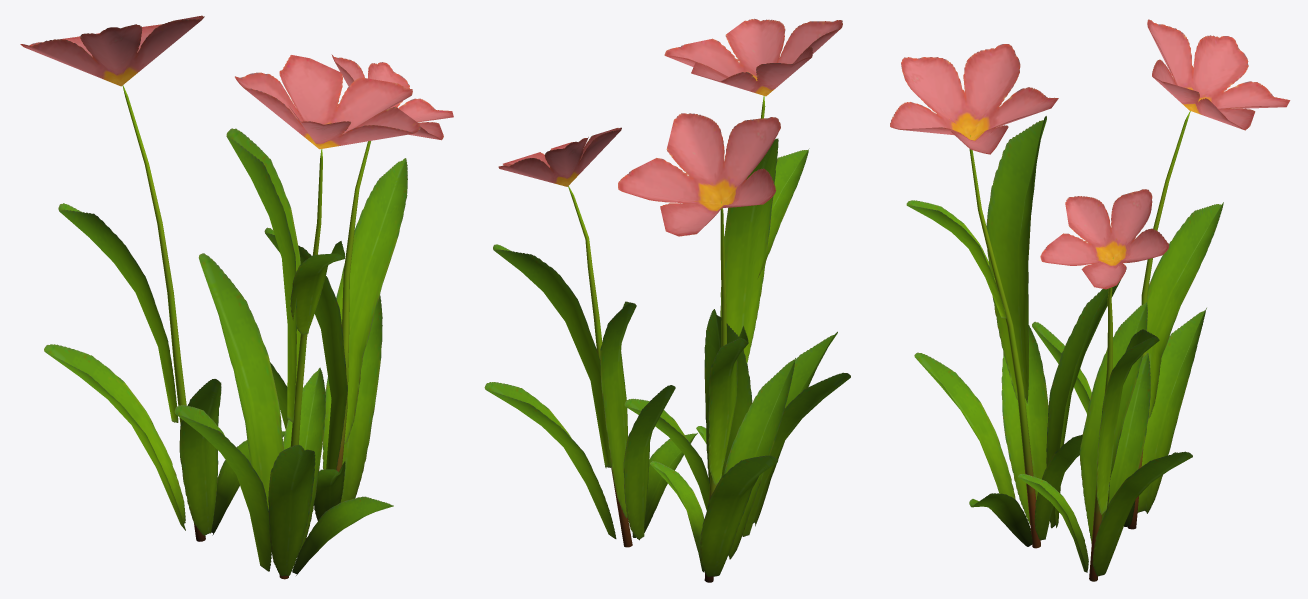
The model's file is Flower_3_Group.glb.
3 renders of one model, left to right at view 1: azimuth 30°, elevation 25°; view 2: azimuth 150°, elevation 25°; view 3: azimuth 270°, elevation 25°, orthographic. The views are drawn at different scales.
Visible parts, largest first — view 1: Flower_3_Group; view 2: Flower_3_Group; view 3: Flower_3_Group.
Part boxes in pixels (x1,y1,x2,y2): Flower_3_Group: (20,15,453,579); Flower_3_Group: (484,18,850,582); Flower_3_Group: (890,19,1290,581).
Bounding box in the file's own units: 1.49 × 2.05 × 1.59.
Materials: 2 (2 with a texture image).
